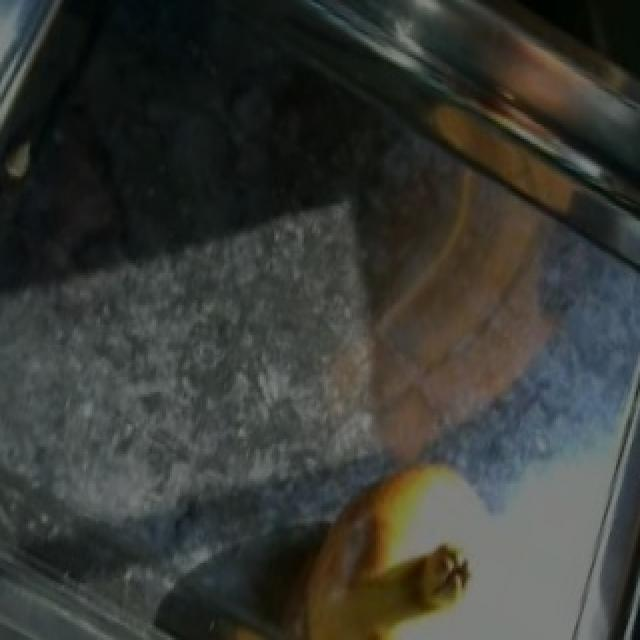fruit: (274, 431, 522, 640)
